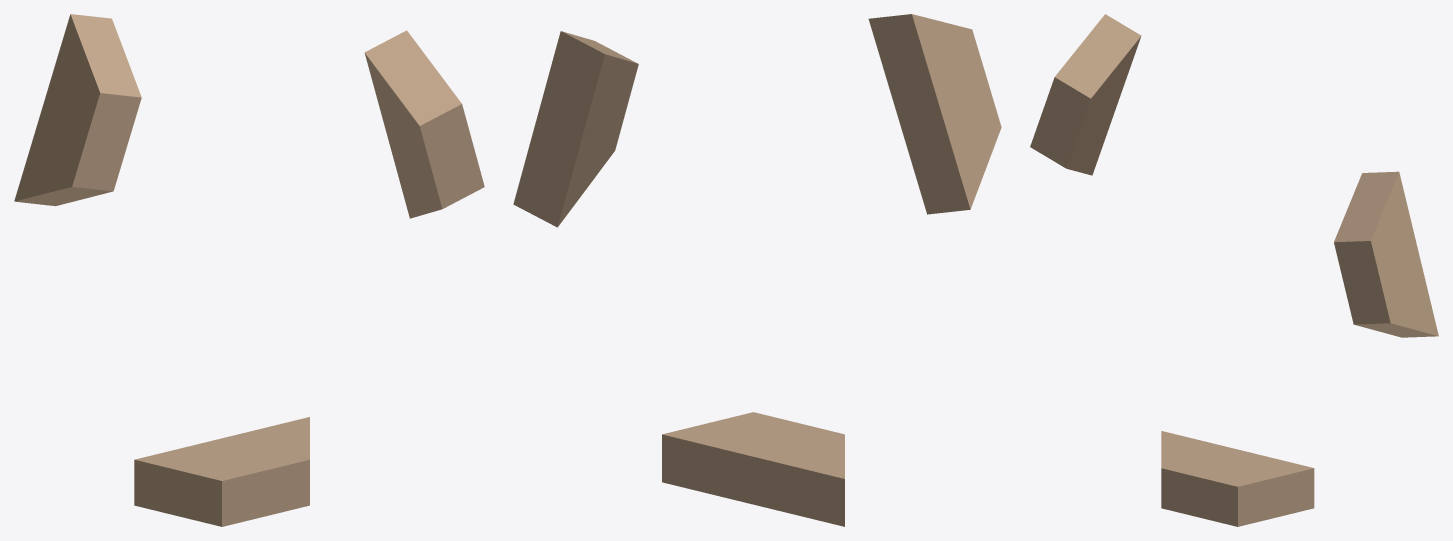
The model's file is notCarne.obj.
3 views of the same model, side by side, from view 1: azimuth 30°, elevation 25°; view 2: azimuth 150°, elevation 25°; view 3: azimuth 330°, elevation 25° (orthographic). The views are drawn at different scales.
Parts seen in each view (by area): view 1: bowlSoup.002; view 2: bowlSoup.002; view 3: bowlSoup.002.
Boxes of the visible parts, x1,y1,x2,y2 form: bowlSoup.002: [14, 14, 484, 526]; bowlSoup.002: [513, 14, 1001, 526]; bowlSoup.002: [1030, 14, 1438, 526].
Bounding box in the file's own units: 0.0999 × 0.1105 × 0.0173.
